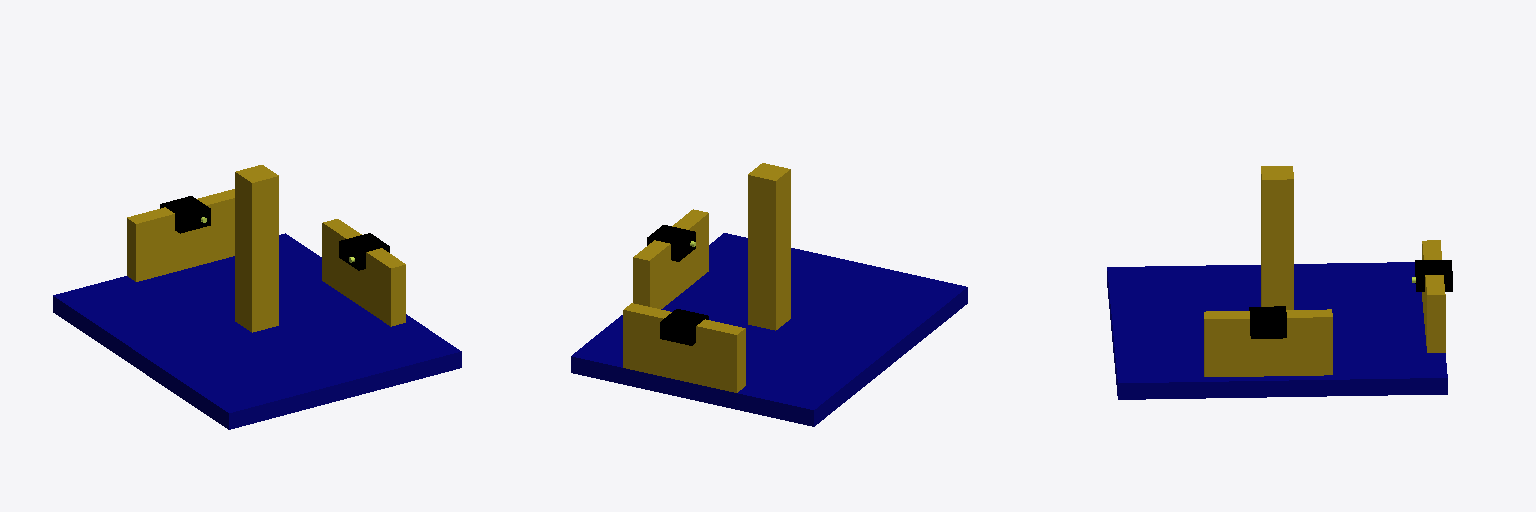
File: altTahta.obj
3 views of the same model, side by side, from view 1: azimuth 30°, elevation 25°; view 2: azimuth 150°, elevation 25°; view 3: azimuth 270°, elevation 25° (orthographic).
Parts seen in each view (by area): view 1: Box001, Box010, Box007, Box012, Box006, Box008, Box014, Box013, Box009, Box011; view 2: Box001, Box010, Box007, Box012, Box006, Box008, Box011, Box013, Box009, Box014; view 3: Box001, Box012, Box010, Box013, Box014, Box011, Box007, Box008, Box009.
Part boxes in pixels (bbox=[...]): Box001: bbox=[53, 233, 461, 429]; Box010: bbox=[235, 165, 278, 332]; Box007: bbox=[127, 215, 234, 281]; Box012: bbox=[322, 239, 405, 326]; Box006: bbox=[127, 207, 174, 240]; Box008: bbox=[160, 196, 210, 233]; Box014: bbox=[366, 248, 405, 284]; Box013: bbox=[339, 233, 389, 270]; Box009: bbox=[197, 189, 234, 220]; Box011: bbox=[322, 219, 361, 249]; Box001: bbox=[571, 233, 967, 426]; Box010: bbox=[748, 163, 790, 330]; Box007: bbox=[623, 326, 745, 392]; Box012: bbox=[633, 230, 708, 308]; Box006: bbox=[696, 319, 745, 351]; Box008: bbox=[660, 309, 708, 345]; Box011: bbox=[633, 240, 670, 276]; Box013: bbox=[647, 225, 695, 261]; Box009: bbox=[623, 303, 671, 333]; Box014: bbox=[672, 209, 708, 239]; Box001: bbox=[1107, 262, 1447, 399]; Box012: bbox=[1204, 334, 1332, 376]; Box010: bbox=[1261, 166, 1293, 309]; Box013: bbox=[1249, 306, 1286, 338]; Box014: bbox=[1204, 311, 1249, 335]; Box011: bbox=[1286, 309, 1332, 334]; Box007: bbox=[1422, 292, 1445, 352]; Box008: bbox=[1415, 260, 1452, 291]; Box009: bbox=[1425, 275, 1445, 310].
Bounding box in the file's own units: 31.39 × 20 × 37.7.